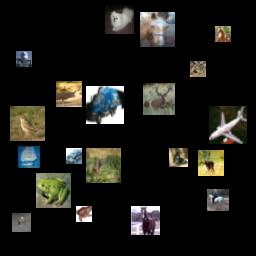airplane: (209, 106, 247, 144), (16, 51, 32, 67)
automobile: (66, 148, 82, 164)
bird: (10, 106, 45, 141)
cat: (169, 148, 188, 167)
deer: (86, 148, 121, 183), (143, 83, 175, 115), (56, 81, 82, 107), (198, 150, 224, 176)
dog: (105, 5, 134, 34), (12, 213, 31, 232)
frog: (36, 173, 71, 208), (190, 61, 206, 77), (76, 206, 92, 222)
ship: (18, 146, 40, 168)
truck: (86, 86, 124, 124)
